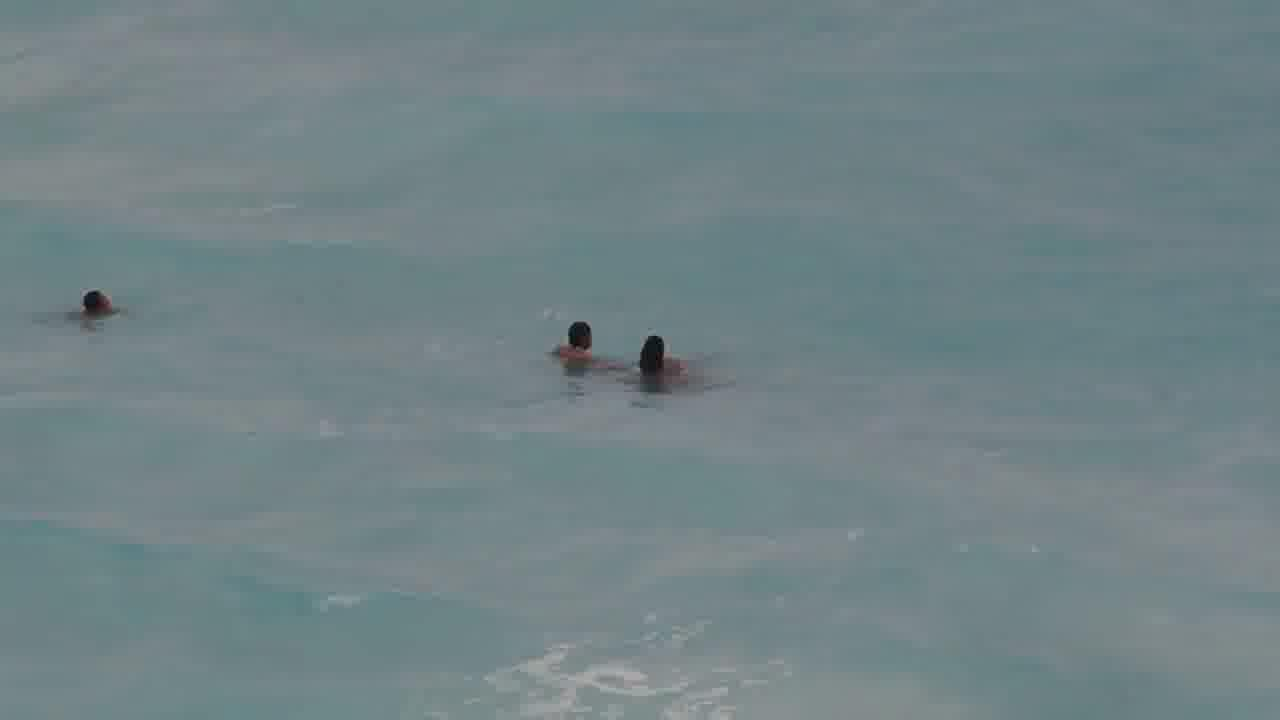swimmer: (53, 277, 134, 350), (550, 312, 600, 363), (631, 334, 676, 382)
